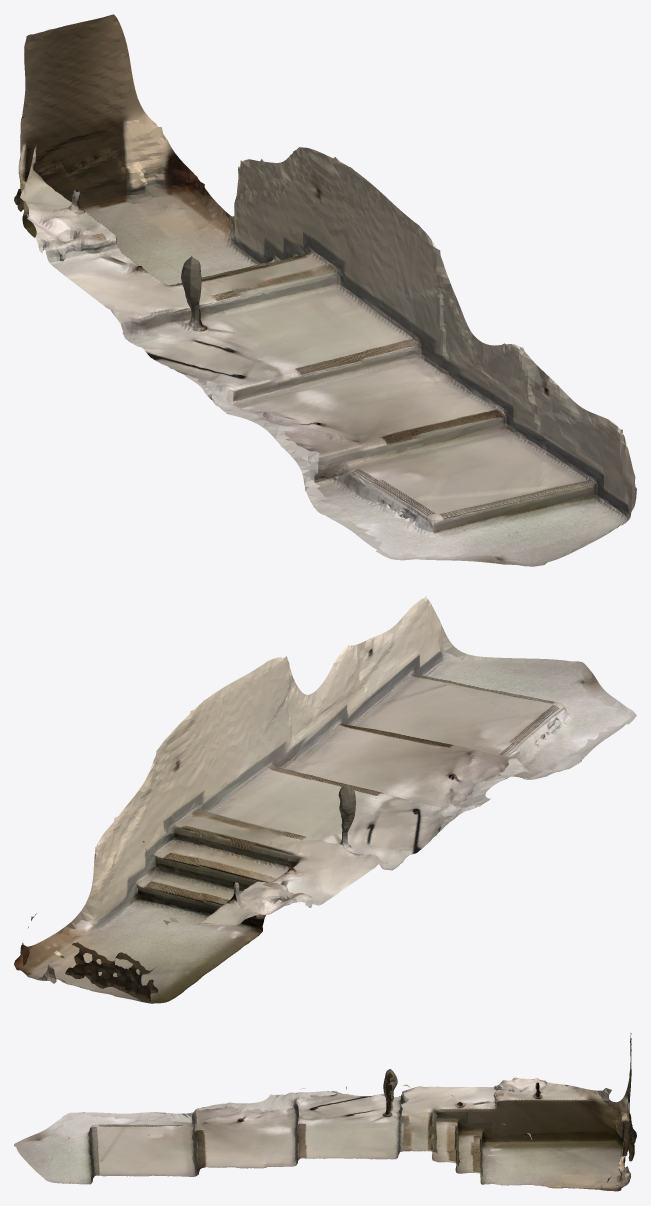
File: two_stairs.glb
The picture shows the model from 3 angles, top to bottom: view 1: azimuth 30°, elevation 25°; view 2: azimuth 150°, elevation 25°; view 3: azimuth 270°, elevation 25°; orthographic projection. The views are drawn at different scales.
Bounding box in the file's own units: 2.07 × 1.47 × 7.22.
Materials: 1 (1 with a texture image).
